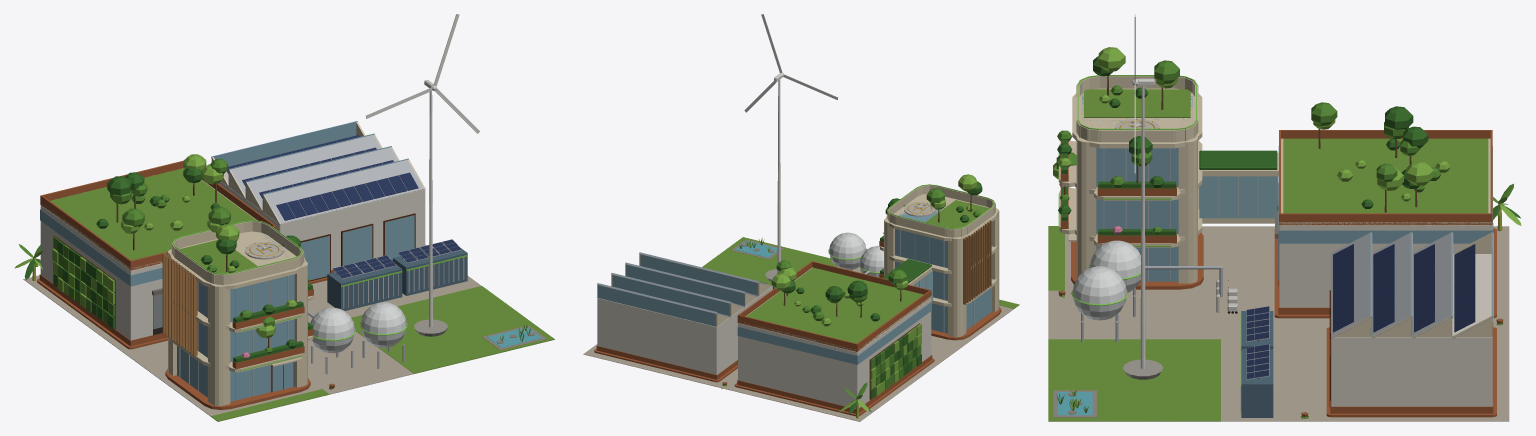
The model's file is factory_4.glb.
The picture shows the model from 3 angles, left to right: view 1: azimuth 30°, elevation 25°; view 2: azimuth 150°, elevation 25°; view 3: azimuth 270°, elevation 25°; orthographic projection. The views are drawn at different scales.
Visible parts, largest first — view 1: body, windows; view 2: body, windows; view 3: body, windows.
Part boxes in pixels (x1,y1,x2,y2): body: (14,14,554,421); windows: (153,220,467,371); body: (583,14,1019,421); windows: (828,184,995,273); body: (1048,14,1521,421); windows: (1058,75,1278,387).
Size of the model in its own units: 32.87 by 28.72 by 32.74.
